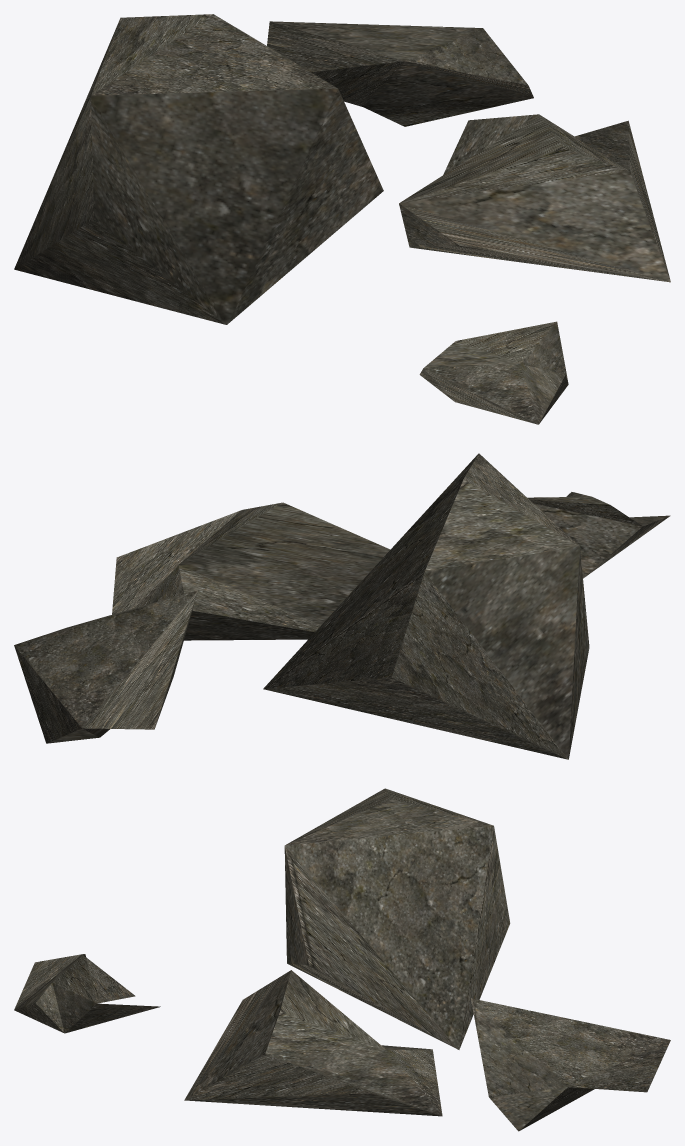
The model's file is mm9_deco_stonedebris03.glb.
3 renders of one model, top to bottom at view 1: azimuth 30°, elevation 25°; view 2: azimuth 150°, elevation 25°; view 3: azimuth 270°, elevation 25°, orthographic. The views are drawn at different scales.
Visible parts, largest first — view 1: Stonedebris03; view 2: Stonedebris03; view 3: Stonedebris03.
Boxes of the visible parts, x1,y1,x2,y2 form: Stonedebris03: (14, 14, 670, 424); Stonedebris03: (14, 453, 670, 759); Stonedebris03: (14, 788, 670, 1131).
Size of the model in its own units: 1.48 by 0.6191 by 1.99.
1 material, 1 textured.
